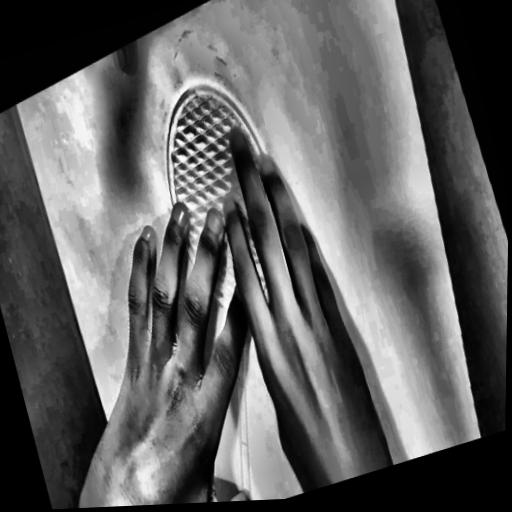badminton: (93, 23, 404, 512)
